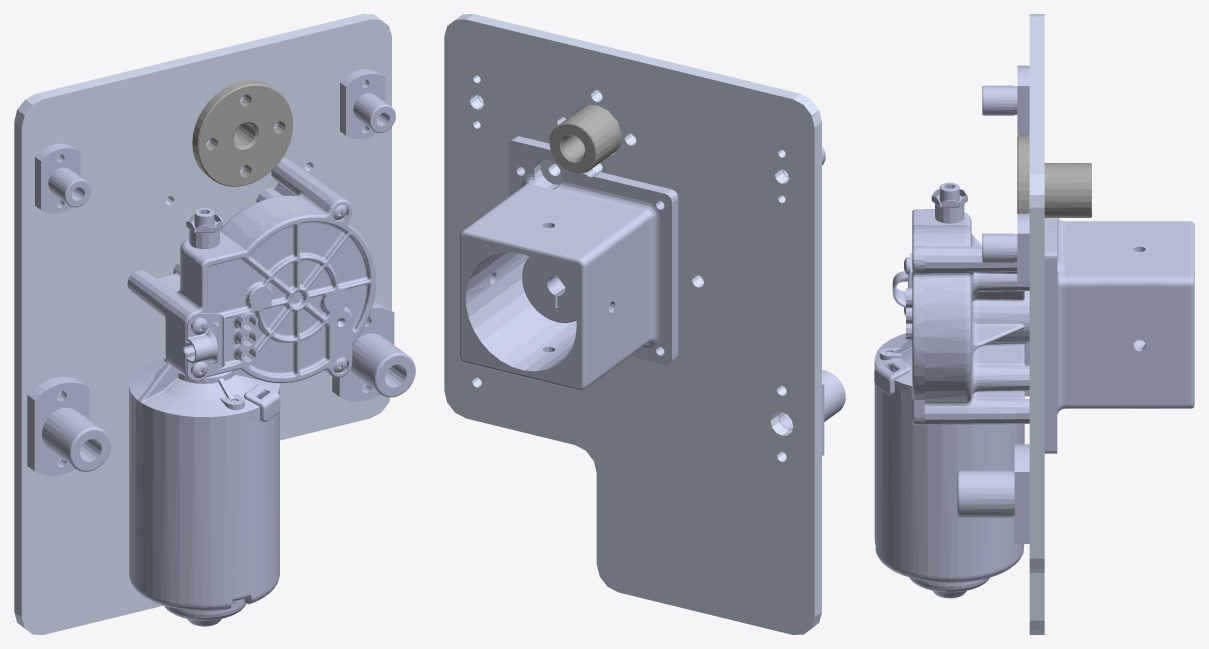
The model's file is drill_motor.glb.
The picture shows the model from 3 angles, left to right: view 1: azimuth 30°, elevation 25°; view 2: azimuth 150°, elevation 25°; view 3: azimuth 270°, elevation 25°; orthographic projection.
Visible parts, largest first — view 1: body11788285_1, body11788285, body11788285_2; view 2: body11788285_1, body11788285, body11788285_2; view 3: body11788285, body11788285_1, body11788285_2.
Part boxes in pixels (bbox=[...]): body11788285_1: bbox=[14, 14, 391, 634]; body11788285: bbox=[27, 69, 415, 626]; body11788285_2: bbox=[192, 80, 292, 186]; body11788285_1: bbox=[444, 14, 821, 634]; body11788285: bbox=[459, 95, 845, 456]; body11788285_2: bbox=[549, 91, 635, 173]; body11788285: bbox=[874, 65, 1194, 598]; body11788285_1: bbox=[1029, 14, 1044, 634]; body11788285_2: bbox=[1017, 135, 1091, 217].
Size of the model in its own units: 0.17 by 0.235 by 0.1282.
